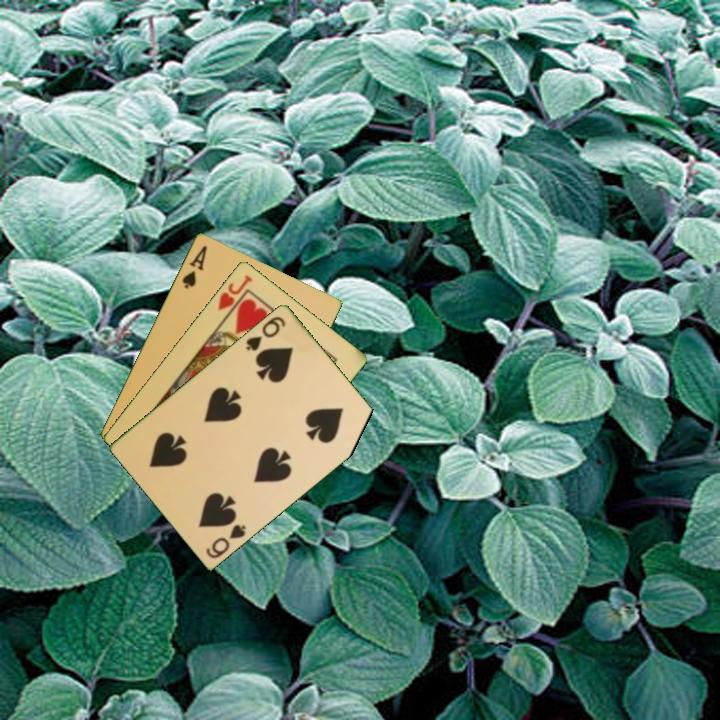6s: (242, 312, 288, 354), (202, 520, 249, 561)
As: (178, 241, 210, 291)
Jh: (214, 271, 256, 322)
